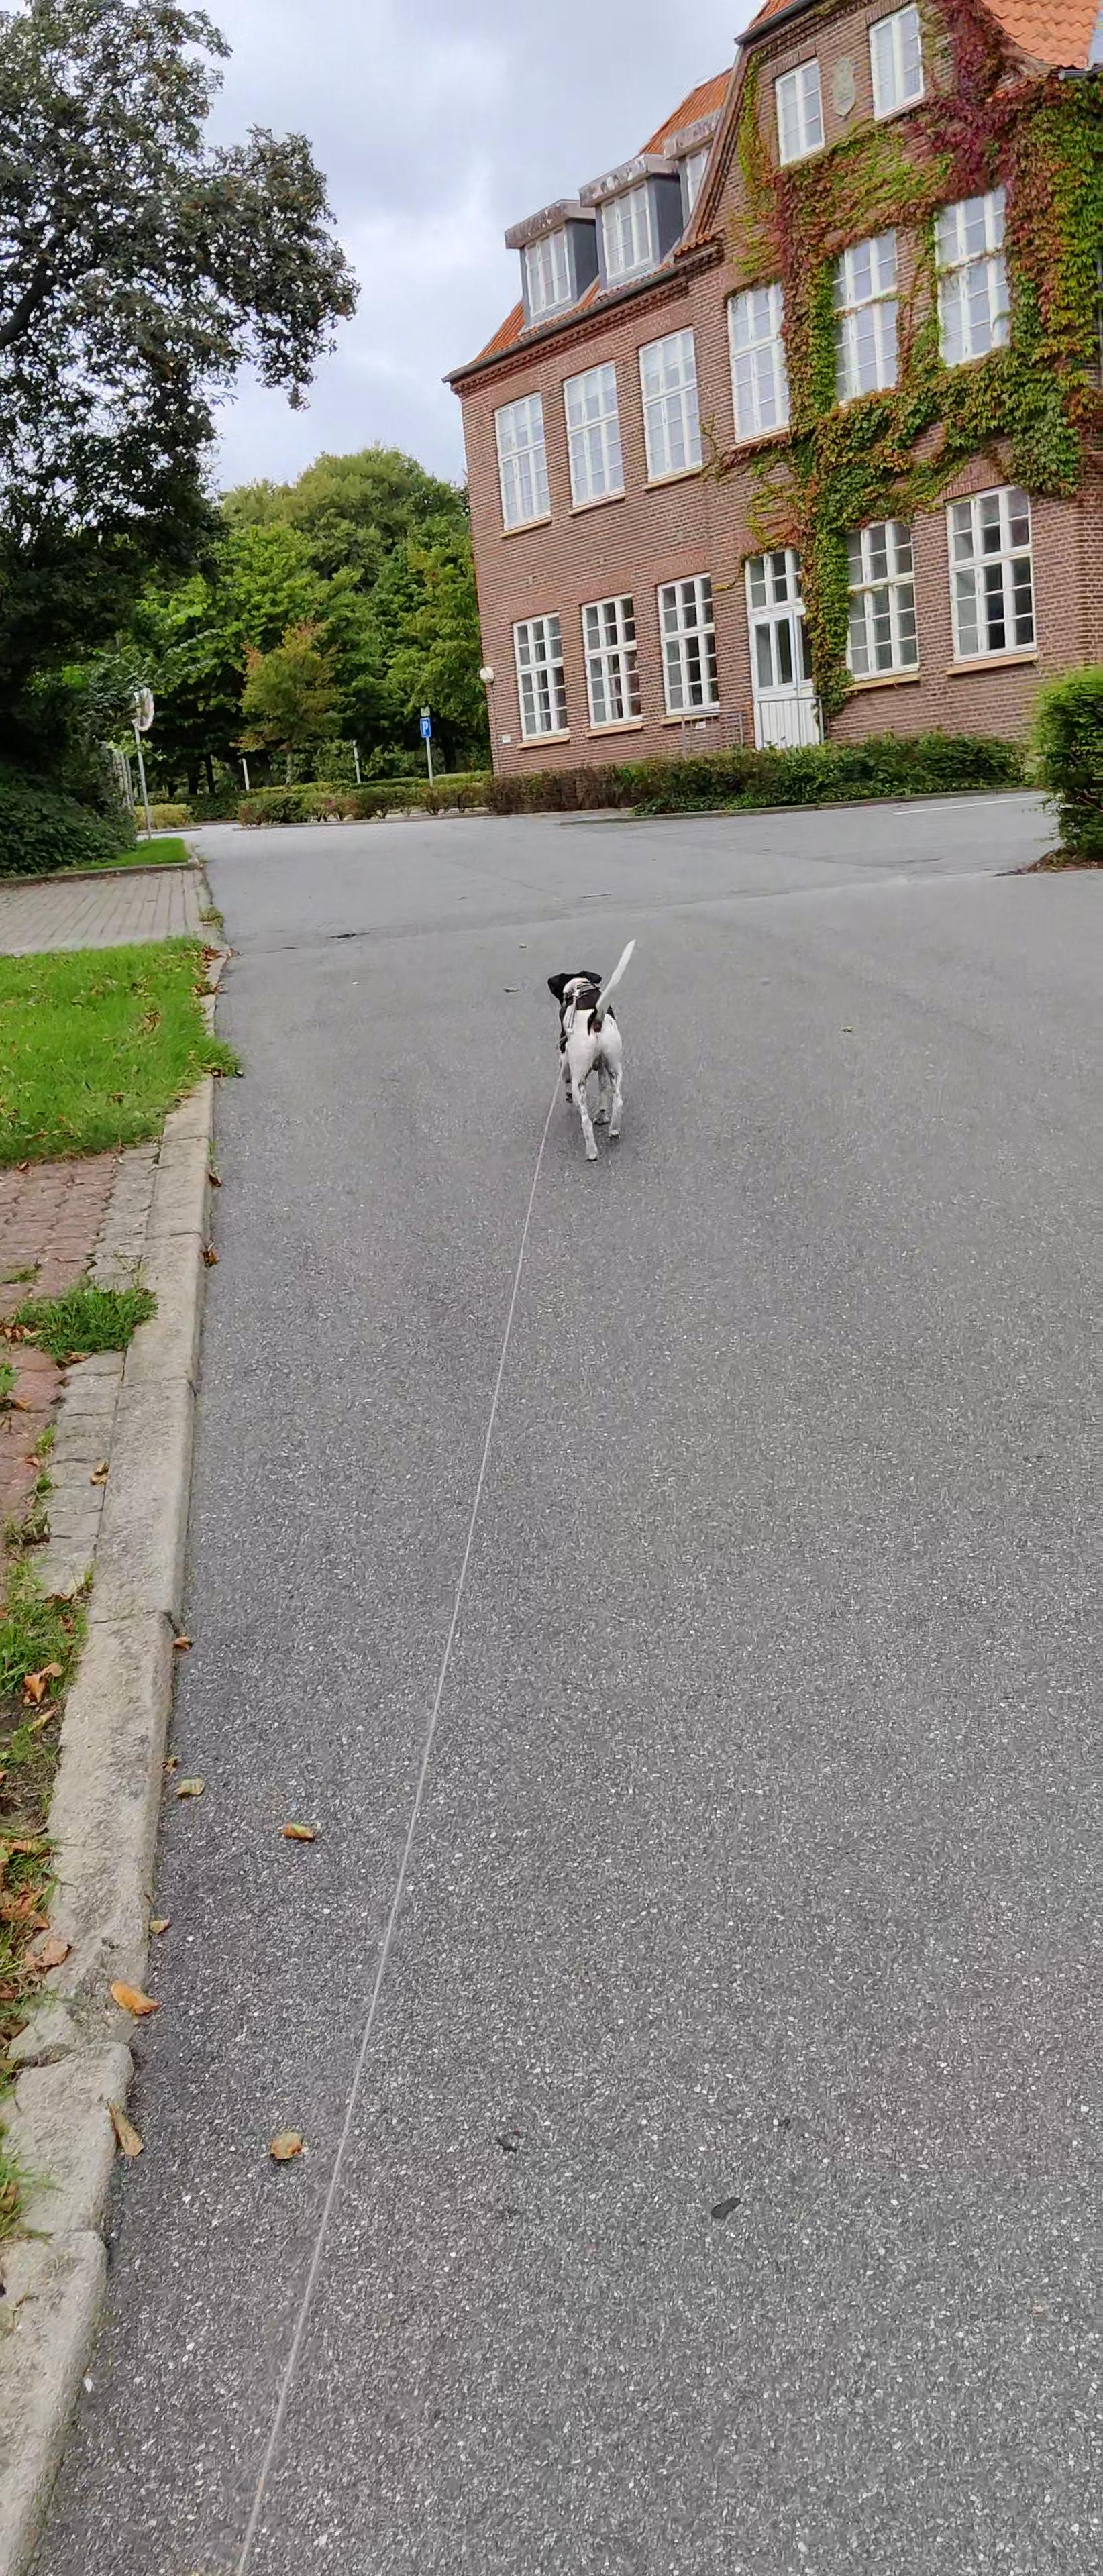Dog: (523, 931, 658, 1178)
